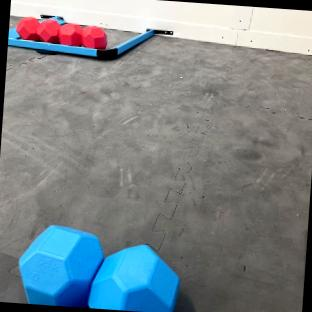Parking-R: (7, 28, 172, 57)
V5_BLUE: (19, 224, 178, 312)
V5_RED: (14, 15, 106, 48)
